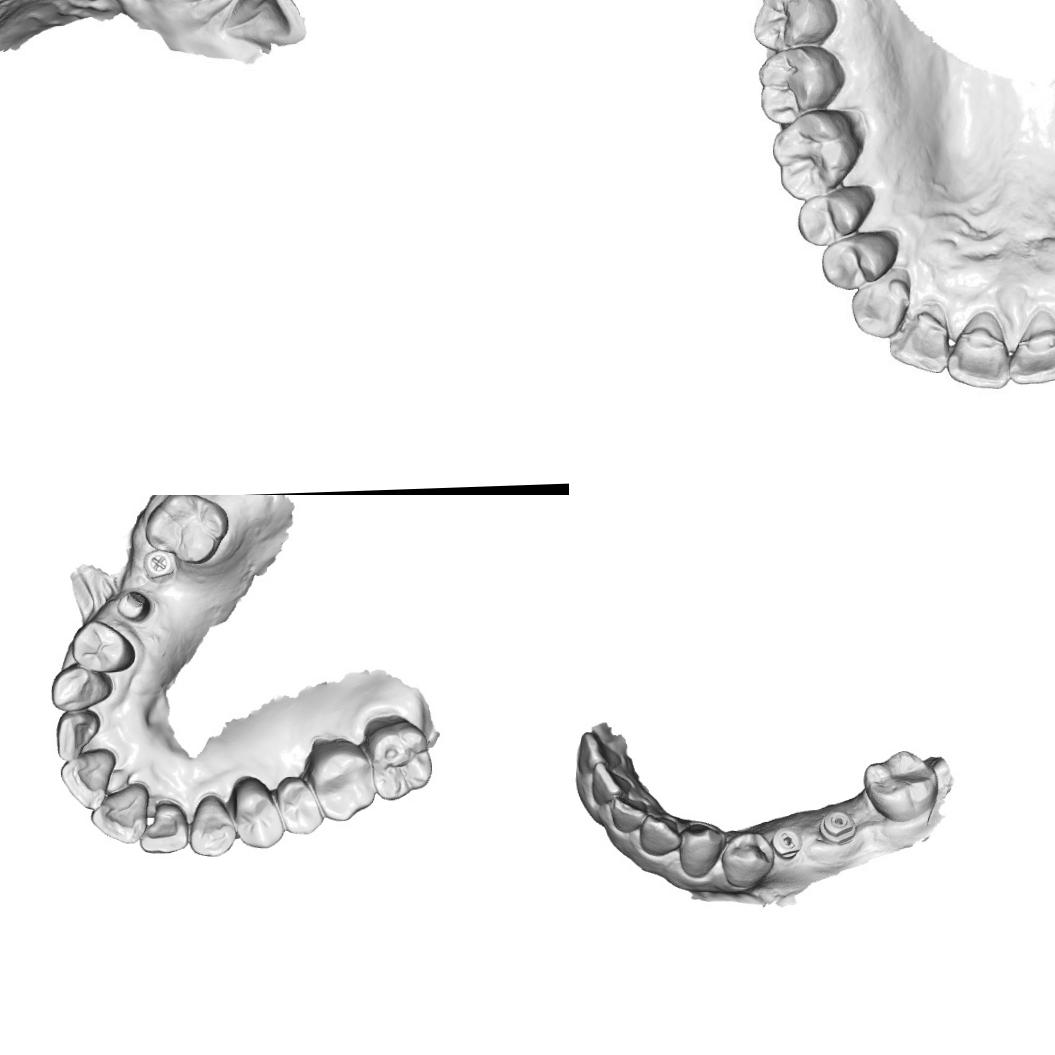abutment: (115, 586, 156, 624)
canine: (852, 270, 909, 336), (186, 792, 238, 858), (50, 661, 114, 712), (676, 820, 728, 880)
implant: (816, 808, 858, 846)
implant_minus: (768, 824, 804, 862)
implant_plus: (142, 548, 178, 579)
incisor: (943, 303, 1020, 398), (886, 301, 954, 378), (1007, 303, 1055, 396), (89, 781, 151, 845), (225, 0, 304, 50), (59, 748, 118, 812), (138, 802, 188, 855), (54, 709, 102, 761), (638, 812, 684, 858), (575, 728, 621, 774), (589, 760, 634, 807), (610, 794, 649, 834)
molar: (772, 104, 863, 199), (758, 43, 846, 124), (302, 735, 376, 822), (142, 495, 230, 567), (863, 748, 940, 824), (364, 718, 433, 802), (754, 0, 838, 50)
premolar: (824, 230, 896, 290), (801, 187, 874, 244), (232, 773, 285, 850), (69, 618, 136, 675), (719, 830, 776, 892), (274, 774, 324, 836)
